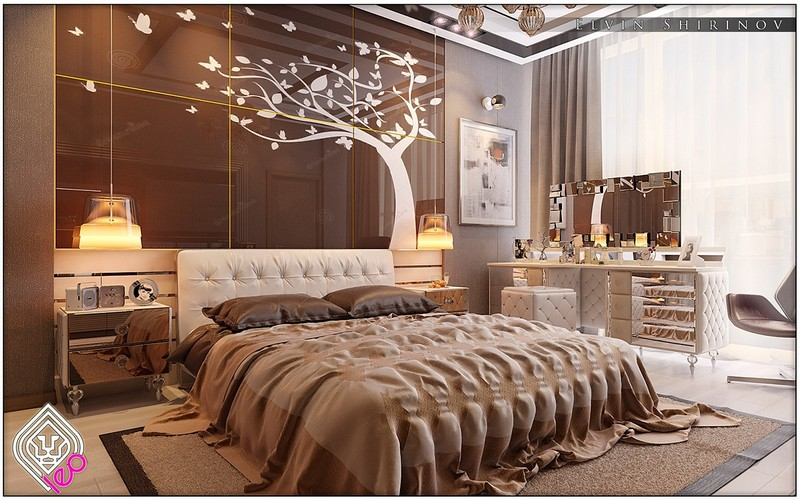bed: (173, 238, 732, 489)
chair: (501, 284, 582, 340)
stool: (57, 299, 178, 426), (397, 281, 479, 322)
